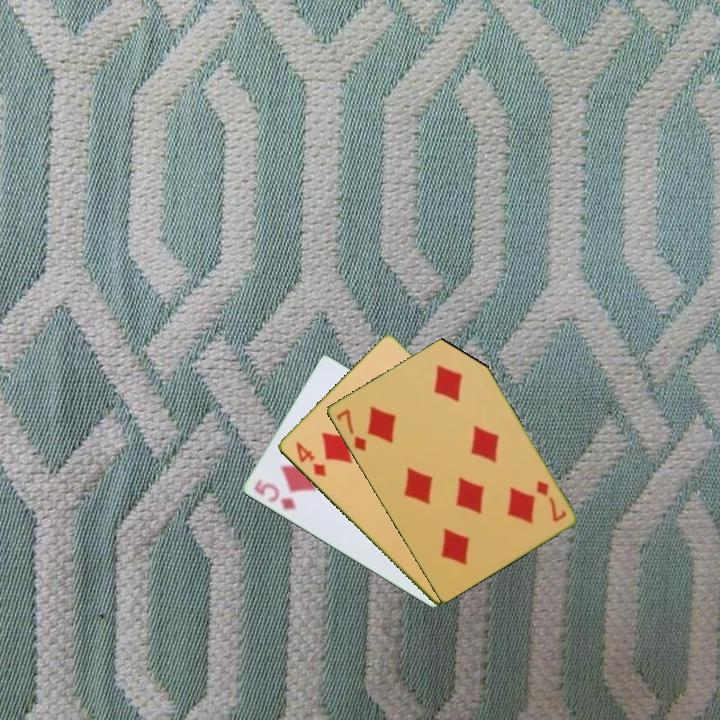4d: (291, 438, 329, 480)
5d: (250, 475, 299, 513)
7d: (332, 405, 369, 454), (532, 476, 569, 525)
